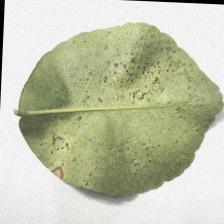canker: (88, 43, 188, 102)
